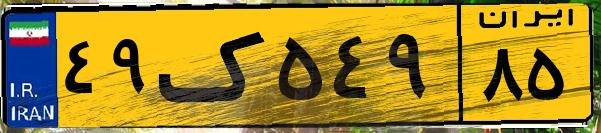4: (330, 28, 385, 110), (57, 26, 110, 100)
5: (270, 28, 330, 110), (525, 38, 570, 115)
8: (475, 38, 525, 113)
9: (385, 28, 445, 110), (110, 28, 158, 98)
ک: (158, 12, 270, 120)
